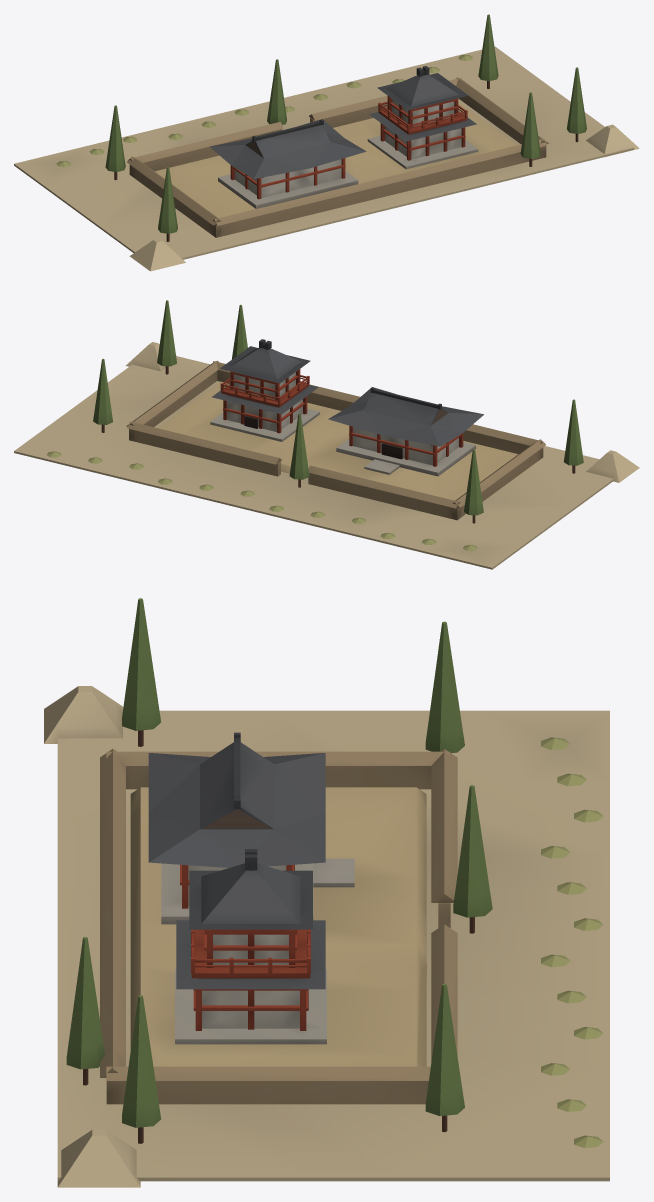
File: spring-shrine.glb
3 renders of one model, top to bottom at view 1: azimuth 30°, elevation 25°; view 2: azimuth 150°, elevation 25°; view 3: azimuth 270°, elevation 25°, orthographic. The views are drawn at different scales.
Visible parts, largest first — view 1: p0_terrace, p2_trees, p1_halls; view 2: p0_terrace, p2_trees, p1_halls; view 3: p0_terrace, p2_trees, p1_halls.
Boxes of the visible parts, x1,y1,x2,y2 form: p0_terrace: (14, 46, 639, 271); p2_trees: (56, 14, 586, 241); p1_halls: (218, 96, 478, 208); p0_terrace: (14, 342, 639, 569); p2_trees: (47, 300, 583, 550); p1_halls: (210, 369, 475, 476); p0_terrace: (44, 686, 609, 1187); p2_trees: (66, 598, 603, 1148); p1_halls: (161, 858, 354, 1044).
Bounding box in the file's own units: 82 × 13.67 × 41.
